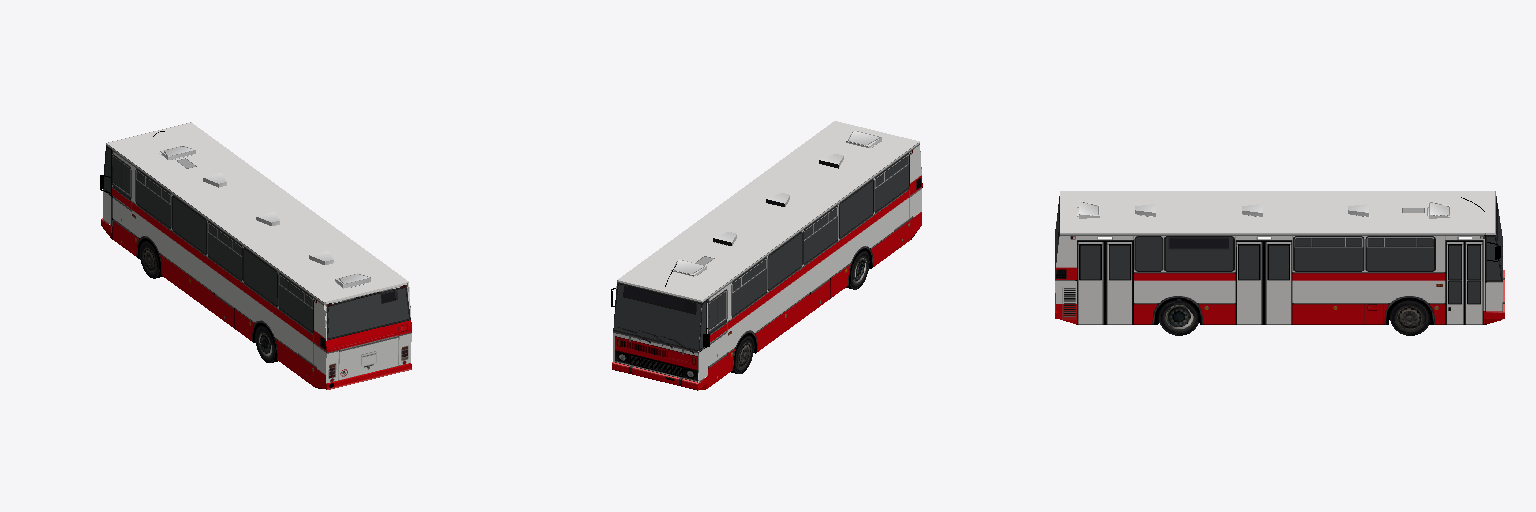
3 views of the same model, side by side, from view 1: azimuth 30°, elevation 25°; view 2: azimuth 150°, elevation 25°; view 3: azimuth 270°, elevation 25° (orthographic).
Parts seen in each view (by area): view 1: Box009; view 2: Box009; view 3: Box009, Cylinder005.
Part boxes in pixels (x1,y1,x2,y2): Box009: (100, 122, 411, 389); Box009: (611, 121, 922, 390); Box009: (1055, 191, 1504, 324); Cylinder005: (1160, 297, 1198, 335).
Bounding box in the file's own units: 3.18 × 3.65 × 12.64.
1 materials, 1 textured.